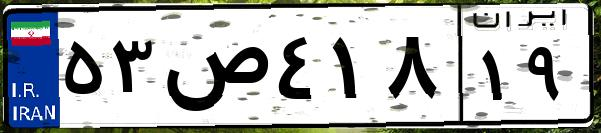1: (330, 28, 385, 110), (475, 38, 525, 113)
3: (110, 28, 158, 98)
4: (270, 28, 330, 110)
5: (57, 26, 110, 100)
8: (385, 28, 445, 110)
9: (525, 38, 570, 115)
ص: (158, 20, 270, 120)
